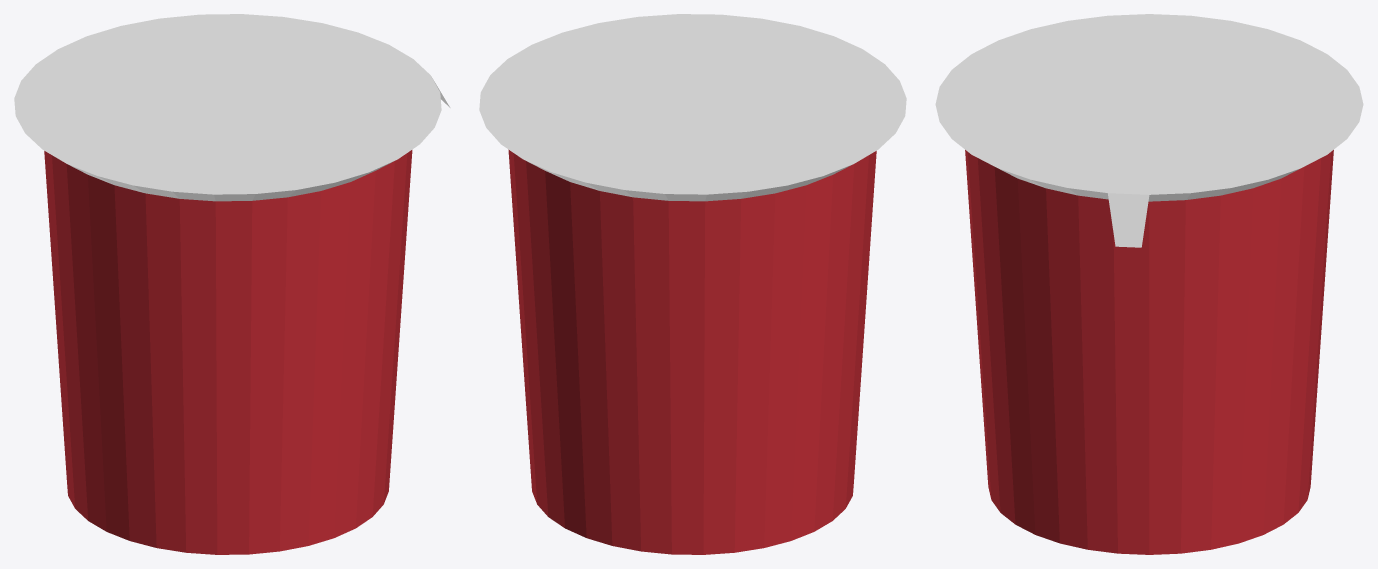
The model's file is Yogurt.fbx.
The picture shows the model from 3 angles, left to right: view 1: azimuth 30°, elevation 25°; view 2: azimuth 150°, elevation 25°; view 3: azimuth 270°, elevation 25°; orthographic projection.
Visible parts, largest first — view 1: Cylinder; view 2: Cylinder; view 3: Cylinder.
Boxes of the visible parts, x1,y1,x2,y2 form: Cylinder: (14, 14, 450, 554); Cylinder: (479, 14, 906, 554); Cylinder: (935, 14, 1363, 554).
Bounding box in the file's own units: 282 × 262 × 266.
